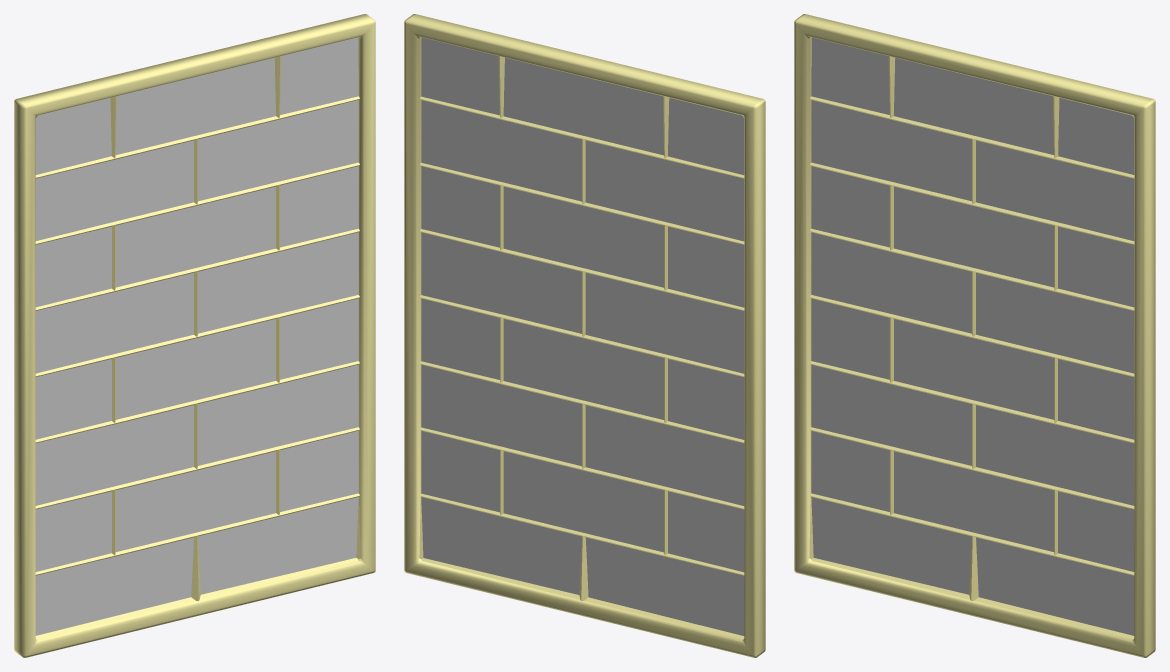
Rendered from Window.fbx.
3 views of the same model, side by side, from view 1: azimuth 30°, elevation 25°; view 2: azimuth 150°, elevation 25°; view 3: azimuth 330°, elevation 25° (orthographic).
Parts seen in each view (by area): view 1: Muros.002; view 2: Muros.002; view 3: Muros.002.
Boxes of the visible parts, box(x1,y1,x2,y2) form: Muros.002: box(14, 14, 375, 657); Muros.002: box(404, 14, 765, 657); Muros.002: box(794, 14, 1155, 657).
Size of the model in its own units: 246 by 369 by 12.5.
